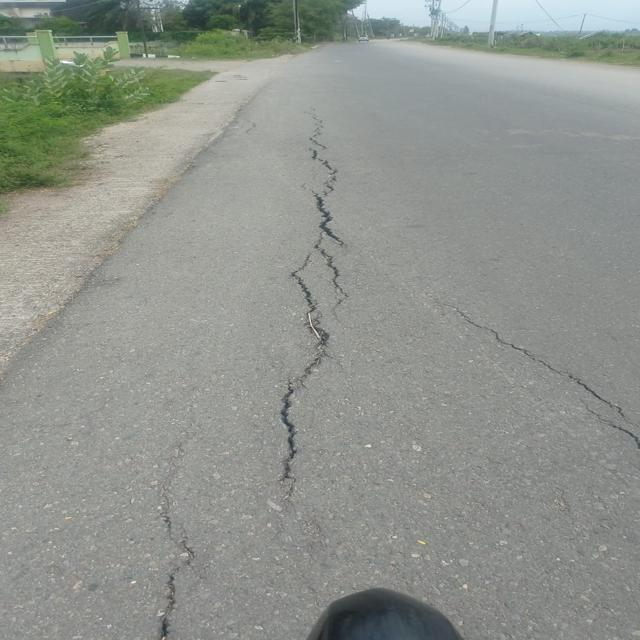Memanjang: (267, 102, 350, 496)
